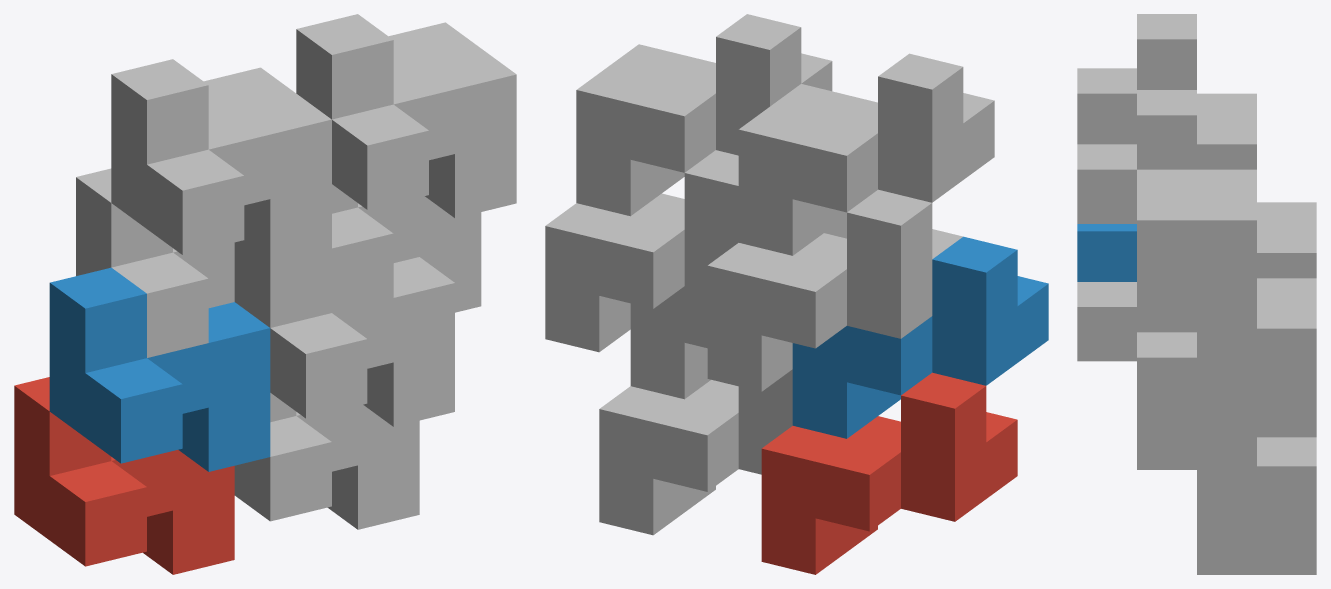
Rendered from tiling.obj.
3 renders of one model, left to right at view 1: azimuth 30°, elevation 25°; view 2: azimuth 150°, elevation 25°; view 3: azimuth 270°, elevation 25°, orthographic. The views are drawn at different scales.
Parts seen in each view (by area): view 1: copy_1_domain_4, copy_1_domain_8, copy_1_domain_2, copy_1_domain_6, copy_1_domain_1, copy_1_domain_5, copy_1_domain_3, copy_1_domain_7; view 2: copy_1_domain_4, copy_1_domain_1, copy_1_domain_3, copy_1_domain_8, copy_1_domain_2, copy_1_domain_7, copy_1_domain_5, copy_1_domain_6; view 3: copy_1_domain_8, copy_1_domain_7, copy_1_domain_5, copy_1_domain_6, copy_1_domain_4, copy_1_domain_3, copy_1_domain_2.
Part boxes in pixels (<box>): copy_1_domain_4: <box>111,59,331,263</box>; copy_1_domain_8: <box>296,14,516,218</box>; copy_1_domain_2: <box>49,267,270,471</box>; copy_1_domain_6: <box>234,241,454,426</box>; copy_1_domain_1: <box>14,377,234,574</box>; copy_1_domain_5: <box>234,393,419,529</box>; copy_1_domain_3: <box>76,168,234,357</box>; copy_1_domain_7: <box>332,184,481,312</box>; copy_1_domain_4: <box>738,53,994,255</box>; copy_1_domain_1: <box>761,372,1017,574</box>; copy_1_domain_3: <box>707,189,962,391</box>; copy_1_domain_8: <box>576,14,832,216</box>; copy_1_domain_2: <box>792,236,1048,438</box>; copy_1_domain_7: <box>545,150,738,352</box>; copy_1_domain_5: <box>599,369,792,535</box>; copy_1_domain_6: <box>630,216,846,399</box>; copy_1_domain_8: <box>1077,90,1256,328</box>; copy_1_domain_7: <box>1137,278,1316,437</box>; copy_1_domain_5: <box>1137,437,1316,574</box>; copy_1_domain_6: <box>1077,282,1256,466</box>; copy_1_domain_4: <box>1077,14,1256,169</box>; copy_1_domain_3: <box>1257,202,1316,278</box>; copy_1_domain_2: <box>1077,224,1136,281</box>.
Bounding box in the file's own units: 7 × 8 × 4.
